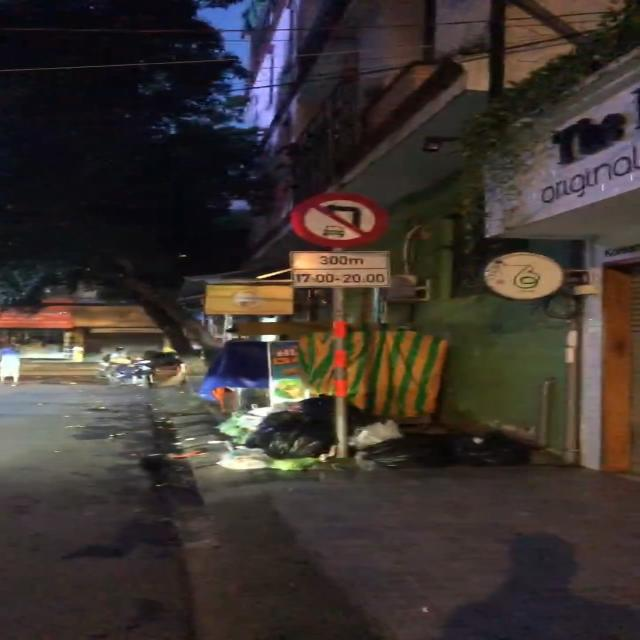Bien bao cam xe o to re trai: (285, 190, 401, 248)
